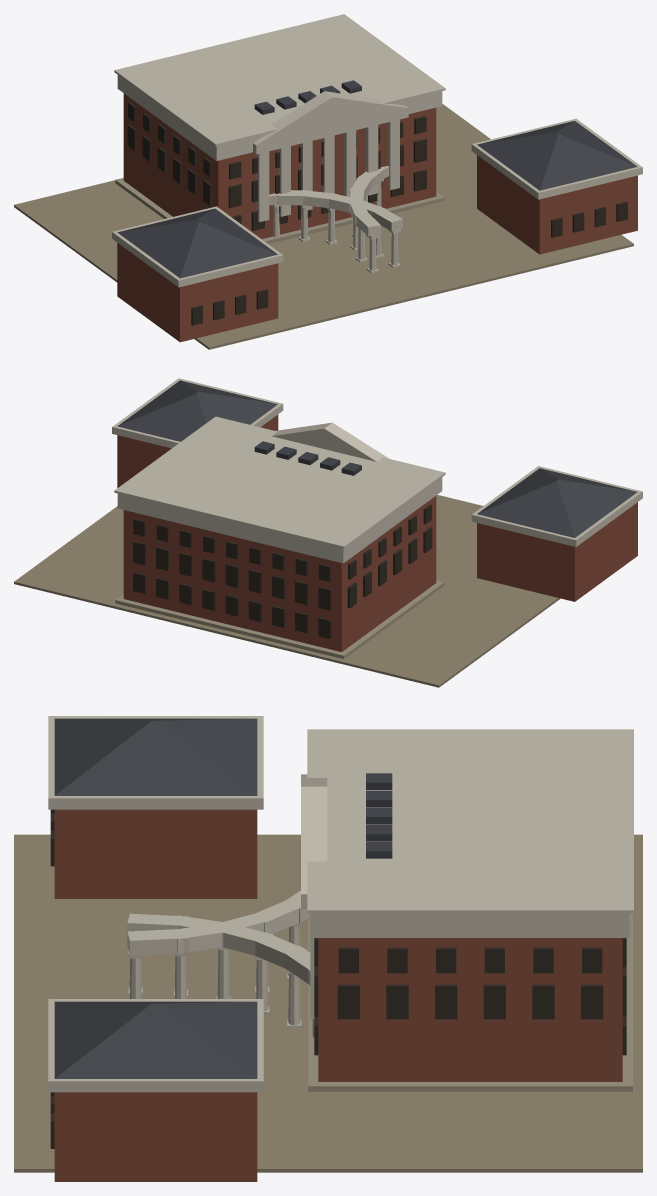
The model's file is buckingham_house.glb.
3 views of the same model, one above another, from view 1: azimuth 30°, elevation 25°; view 2: azimuth 150°, elevation 25°; view 3: azimuth 270°, elevation 25° (orthographic). The views are drawn at different scales.
Visible parts, largest first — view 1: buckingham_house; view 2: buckingham_house; view 3: buckingham_house.
Boxes of the visible parts, <box> form: buckingham_house: <box>14,14,642,349</box>; buckingham_house: <box>14,378,642,687</box>; buckingham_house: <box>14,716,642,1181</box>.
Size of the model in its own units: 85.2 by 23.8 by 62.
